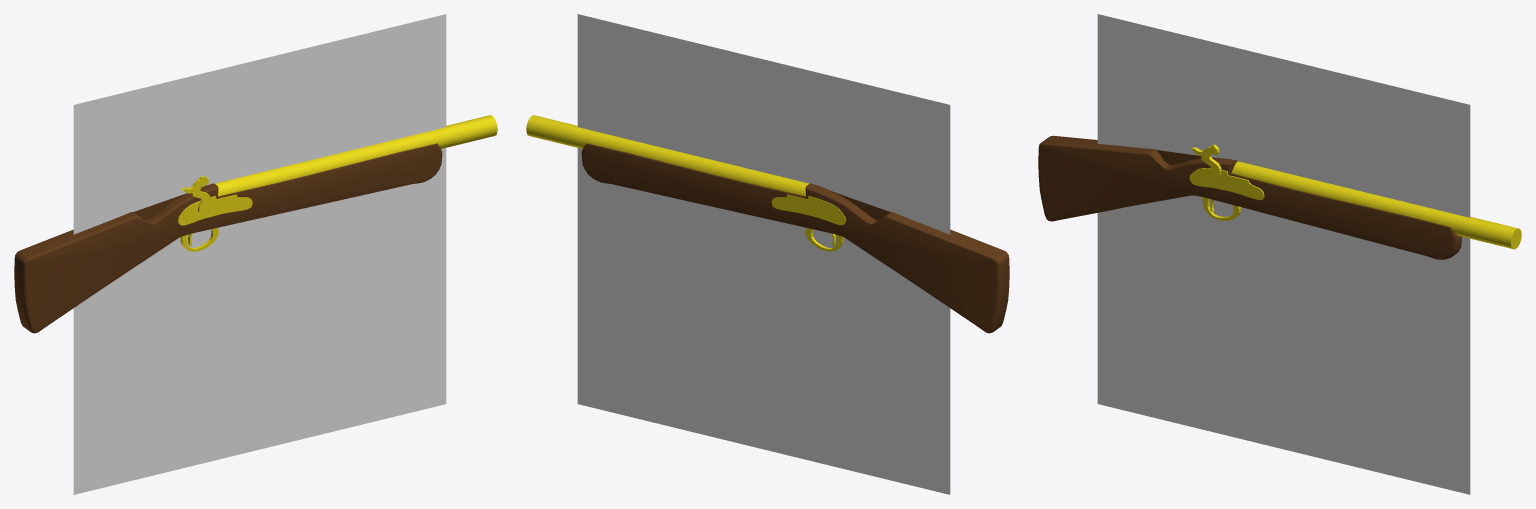
Rendered from Blunderbuss.fbx.
3 renders of one model, left to right at view 1: azimuth 30°, elevation 25°; view 2: azimuth 150°, elevation 25°; view 3: azimuth 330°, elevation 25°, orthographic.
Parts seen in each view (by area): view 1: Plane.001, Stock, Barrel, Plane.002; view 2: Plane.001, Stock, Barrel, Plane.002; view 3: Plane.001, Stock, Barrel, Plane.002, Plane.003.
Boxes of the visible parts, x1=… form: Plane.001: x1=73, y1=14, x2=446, y2=494; Stock: x1=14, y1=143, x2=442, y2=333; Barrel: x1=215, y1=115, x2=497, y2=196; Plane.002: x1=177, y1=194, x2=252, y2=225; Plane.001: x1=577, y1=14, x2=950, y2=494; Stock: x1=581, y1=143, x2=1009, y2=333; Barrel: x1=526, y1=115, x2=808, y2=196; Plane.002: x1=771, y1=194, x2=846, y2=225; Plane.001: x1=1097, y1=14, x2=1470, y2=494; Stock: x1=1038, y1=135, x2=1461, y2=259; Barrel: x1=1231, y1=161, x2=1521, y2=249; Plane.002: x1=1189, y1=168, x2=1264, y2=199; Plane.003: x1=1191, y1=144, x2=1221, y2=182.
Size of the model in its own units: 77.47 by 60.96 by 3.88.
